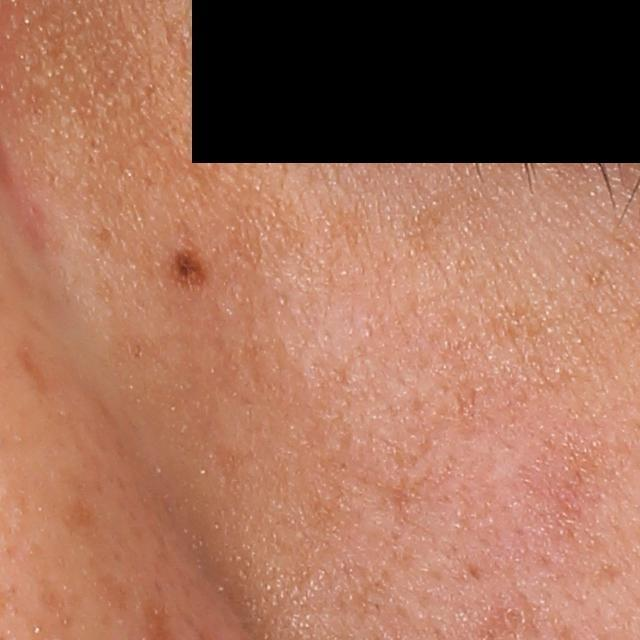nevus: (167, 239, 210, 301)
